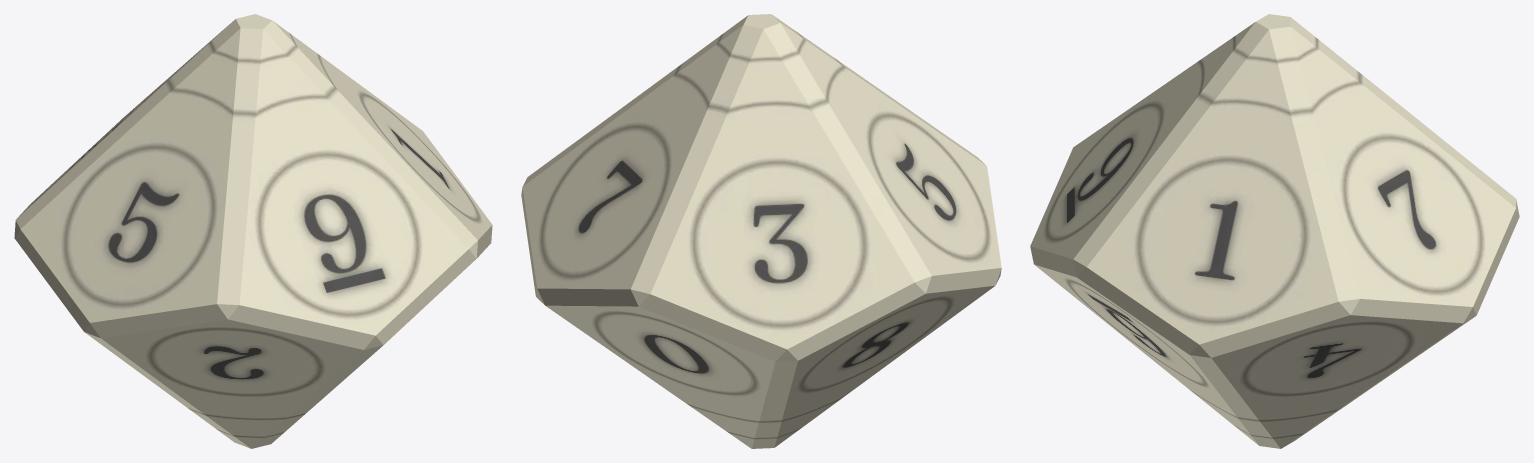
The picture shows the model from 3 angles, left to right: view 1: azimuth 30°, elevation 25°; view 2: azimuth 150°, elevation 25°; view 3: azimuth 270°, elevation 25°; orthographic projection.
Visible parts, largest first — view 1: D10; view 2: D10; view 3: D10.
Boxes of the visible parts, bbox=[...] form: D10: bbox=[14, 14, 492, 448]; D10: bbox=[521, 14, 1001, 448]; D10: bbox=[1030, 14, 1519, 448].
Size of the model in its own units: 2.95 by 2.93 by 3.1.
1 material, 1 textured.
